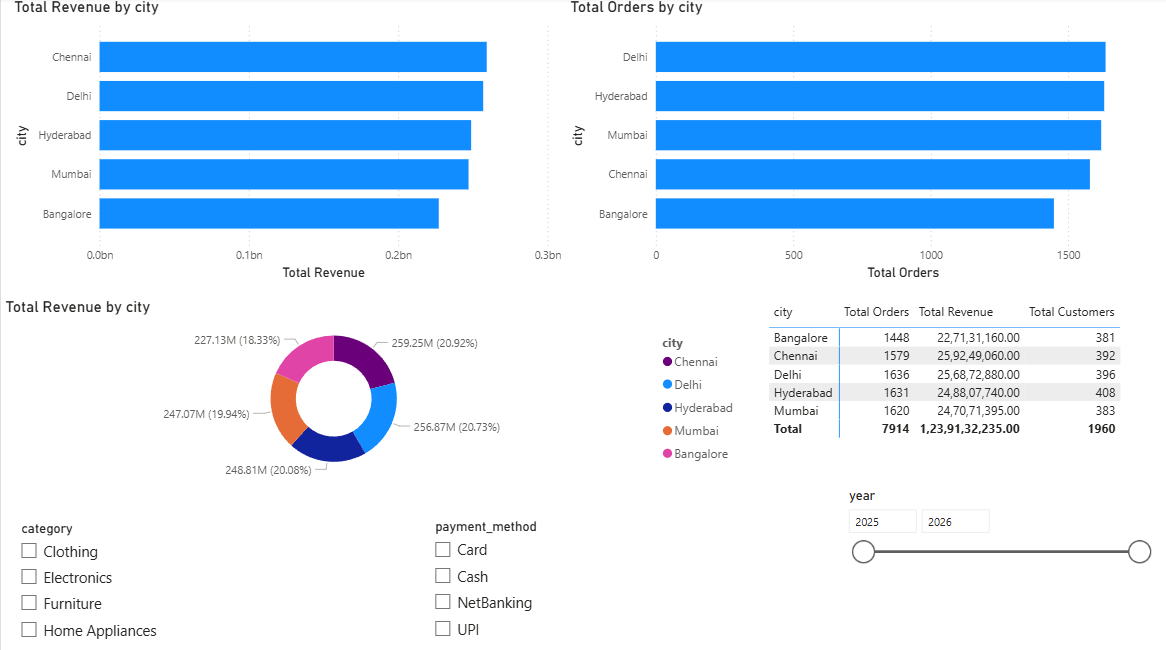

The dashboard page shown, as its layout file describes it:
{"tool":"powerbi","page":{"name":"Regional Insights","canvas":[1280,720],"ordinal":2},"visuals":[{"type":"clusteredBarChart","fields":{"Category":["cleaned_retail_data.city"],"Y":["cleaned_retail_data.Total Revenue"]},"box":[9.6,0,610.6,315.6],"z":0},{"type":"clusteredBarChart","fields":{"Category":["cleaned_retail_data.city"],"Y":["cleaned_retail_data.Total Orders"]},"box":[620.2,0,660,315.6],"z":1000},{"type":"donutChart","fields":{"Category":["cleaned_retail_data.city"],"Y":["cleaned_retail_data.Total Revenue"]},"box":[0,329.3,817.8,204.5],"z":2000},{"type":"pivotTable","fields":{"Rows":["cleaned_retail_data.city"],"Values":["cleaned_retail_data.Total Orders","cleaned_retail_data.Total Revenue","cleaned_retail_data.Total Customers"]},"box":[838.4,329.3,441.9,175.6],"z":3000},{"type":"slicer","fields":{"Values":["cleaned_retail_data.category"]},"box":[9.6,569.5,454.2,150.9],"z":4000},{"type":"slicer","fields":{"Values":["cleaned_retail_data.payment_method"]},"box":[463.8,568.1,467.9,150.9],"z":5000},{"type":"slicer","fields":{"Values":["cleaned_retail_data.year"]},"box":[918,533.8,352.7,185.2],"z":6000}]}

Visuals, with their boxes in screenshot pixels (x1, y1, x2, y2), scaled from the page's 1280x720 canvas onto the 1166x650 screenshot:
clusteredBarChart - cleaned_retail_data.city x cleaned_retail_data.Total Revenue: [9,0,565,285]
clusteredBarChart - cleaned_retail_data.city x cleaned_retail_data.Total Orders: [565,0,1165,285]
donutChart - cleaned_retail_data.city x cleaned_retail_data.Total Revenue: [0,297,745,482]
pivotTable - cleaned_retail_data.city x cleaned_retail_data.Total Orders: [764,297,1165,456]
slicer - cleaned_retail_data.category: [9,514,422,649]
slicer - cleaned_retail_data.payment_method: [422,513,849,649]
slicer - cleaned_retail_data.year: [836,482,1158,649]
